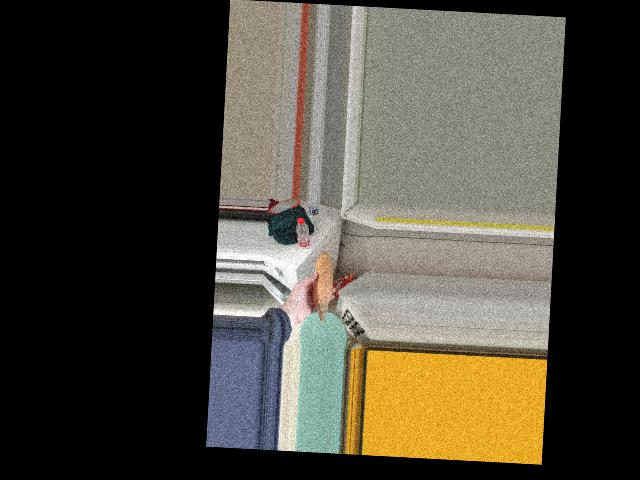sweet_potato: (312, 260, 330, 312)
